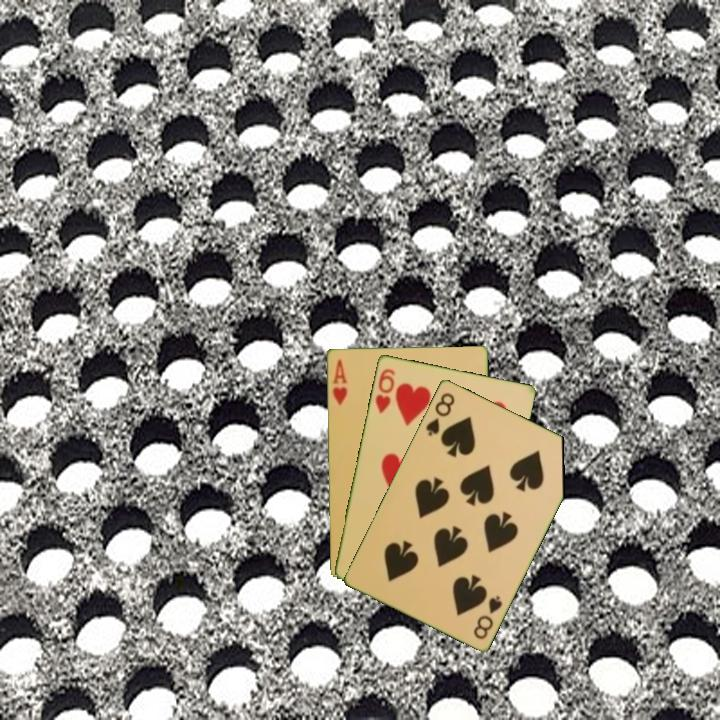6h: (371, 365, 398, 416)
8s: (470, 591, 505, 642), (422, 389, 458, 438)
Ah: (329, 355, 350, 408)
